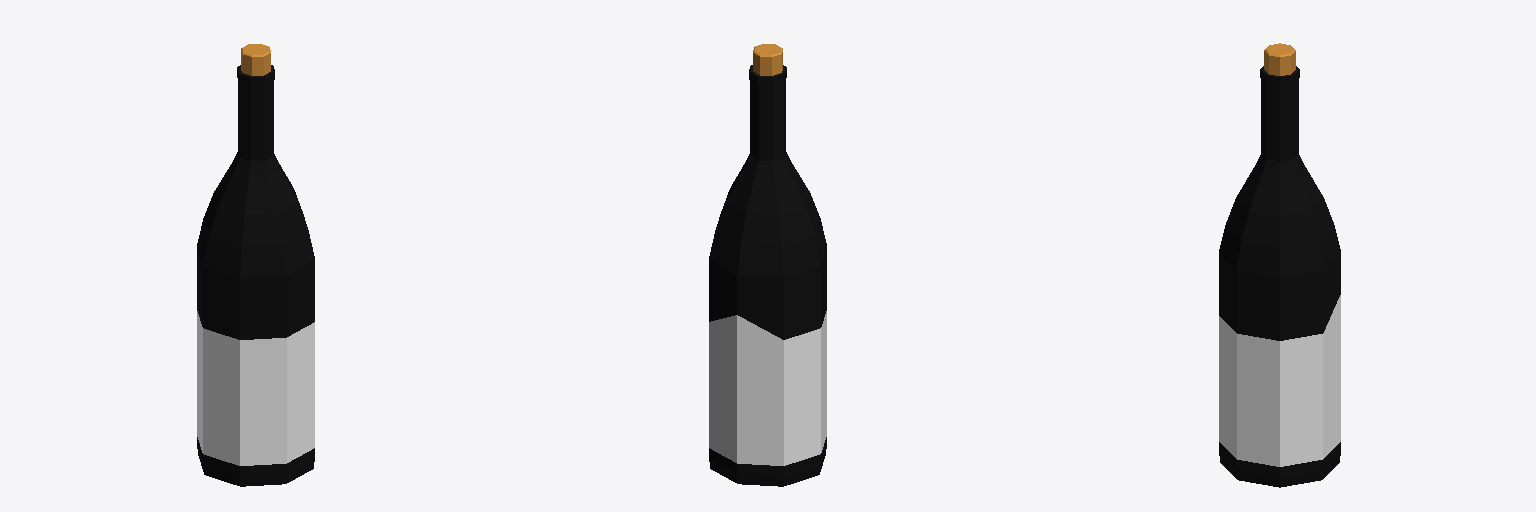
File: bottle3.obj
3 renders of one model, left to right at view 1: azimuth 30°, elevation 25°; view 2: azimuth 150°, elevation 25°; view 3: azimuth 270°, elevation 25°, orthographic.
Visible parts, largest first — view 1: Circle.004; view 2: Circle.004; view 3: Circle.004.
Part boxes in pixels (x1,y1,x2,y2): Circle.004: (197, 44, 314, 486); Circle.004: (709, 44, 826, 486); Circle.004: (1219, 43, 1340, 487).
Size of the model in its own units: 2.68 by 9.95 by 2.68.